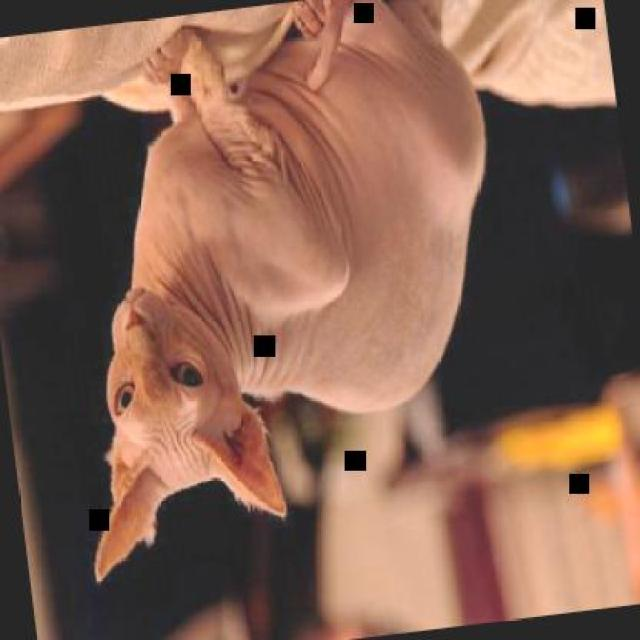cat: (26, 0, 537, 585)
